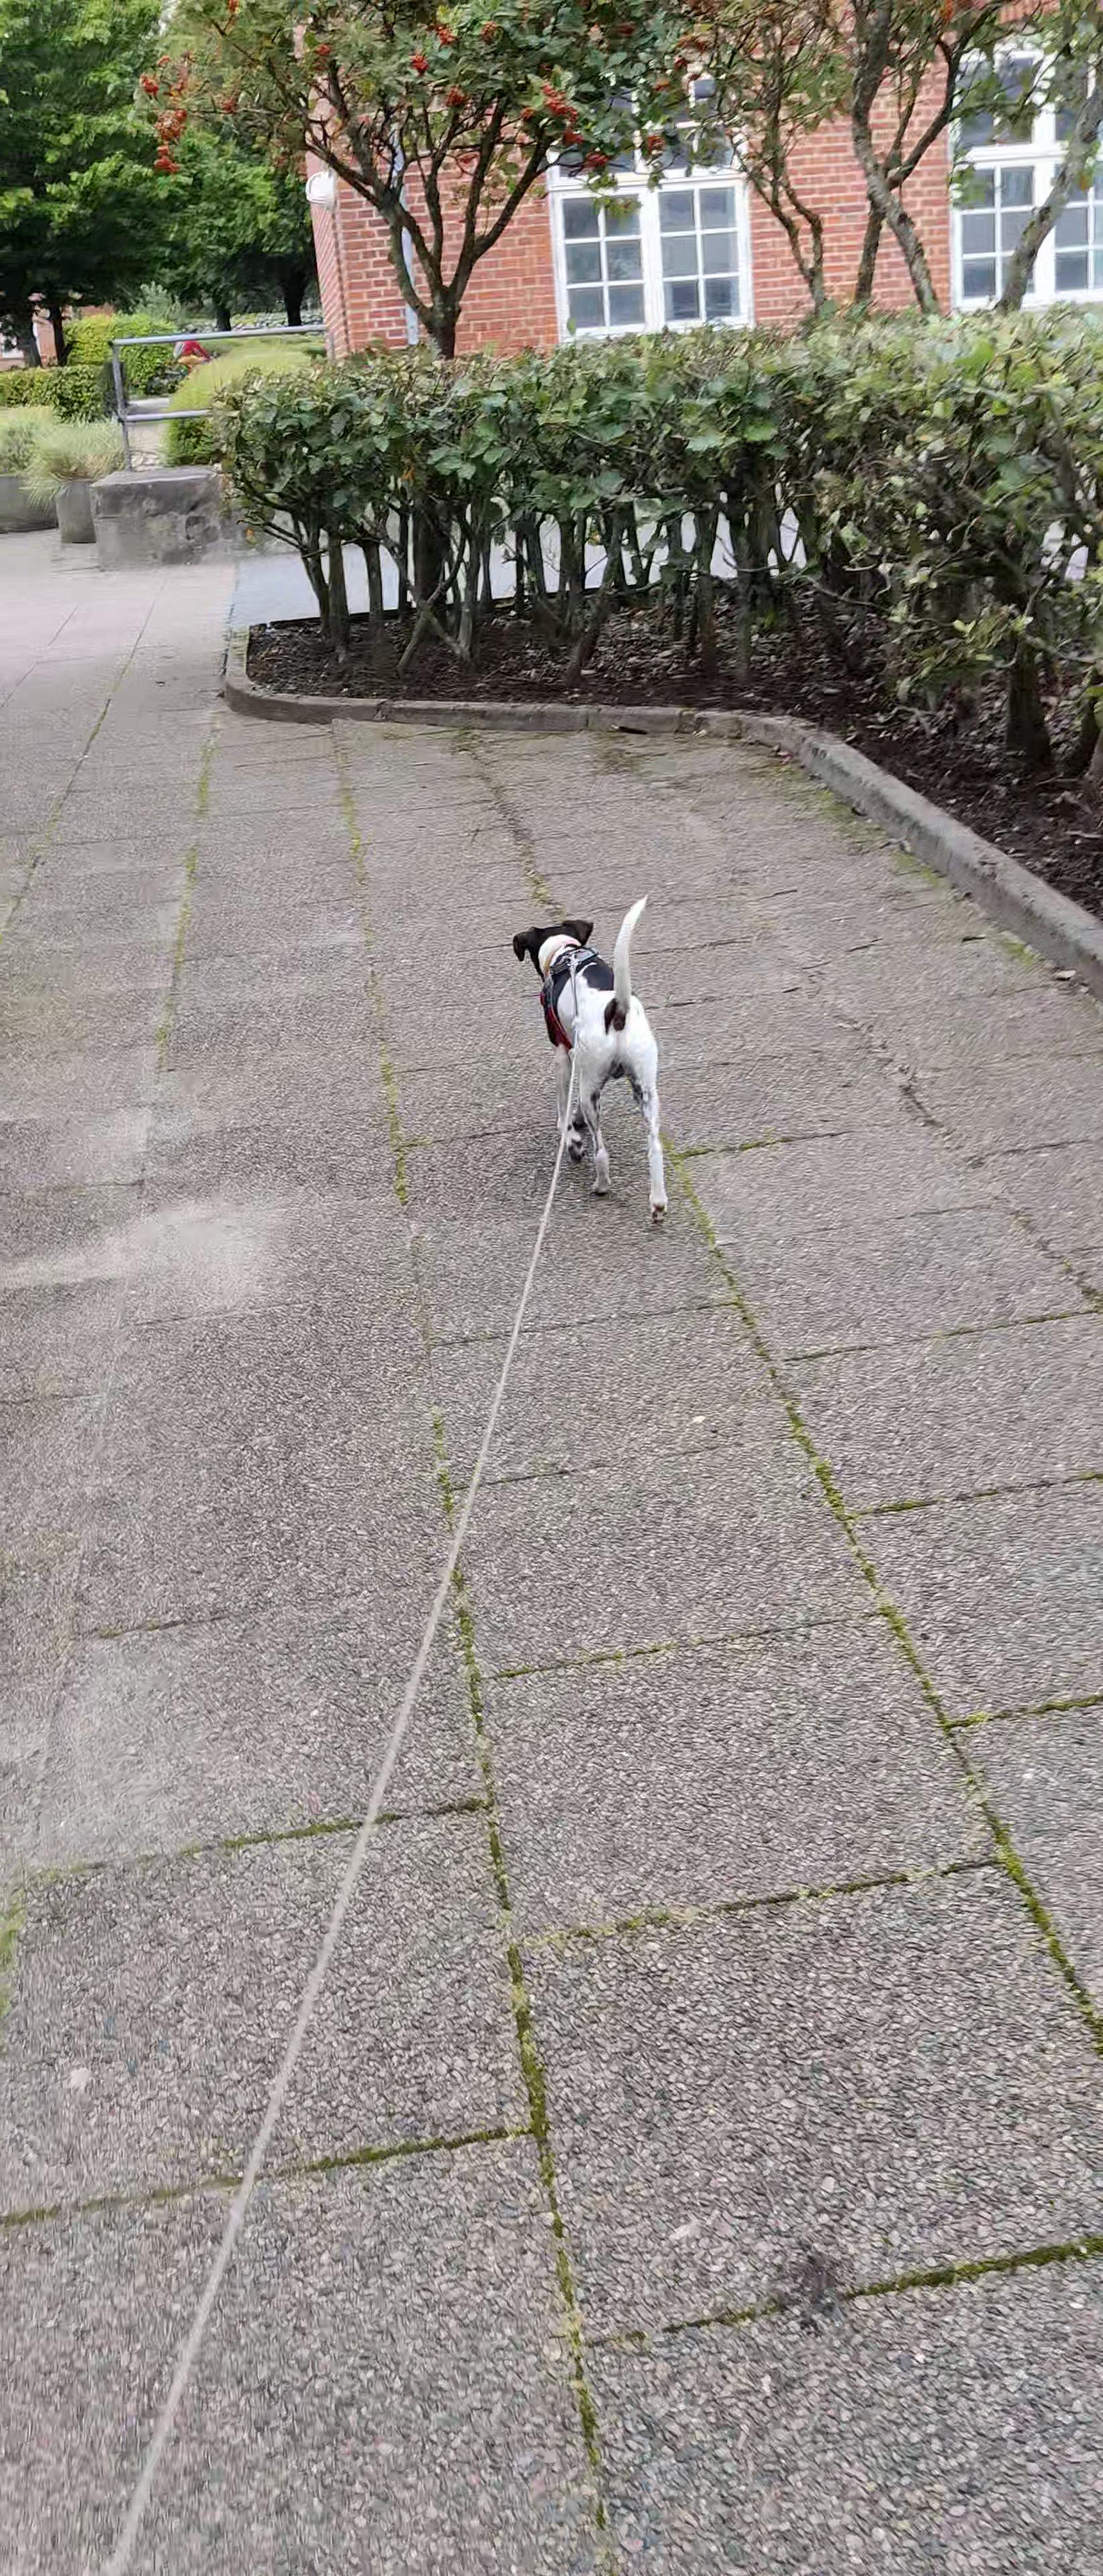Dog: (505, 882, 702, 1257)
